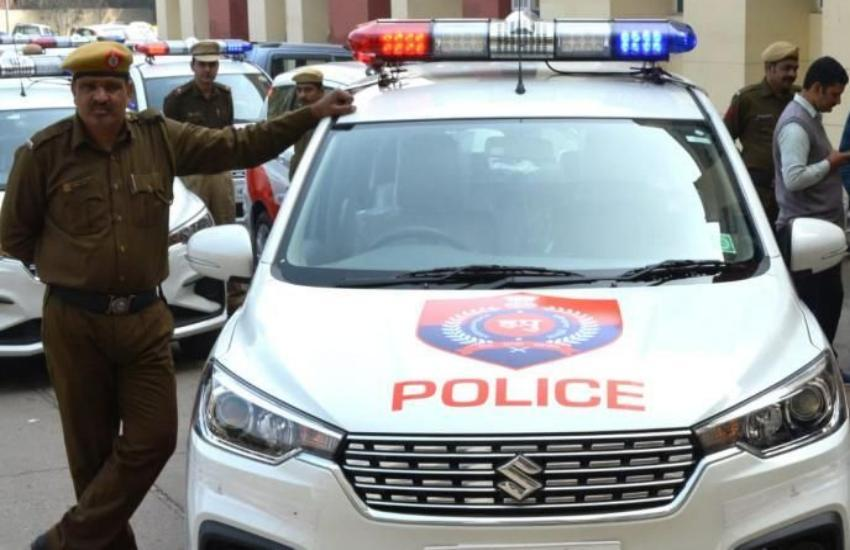Emergency-Vehicles: (142, 16, 850, 550)
